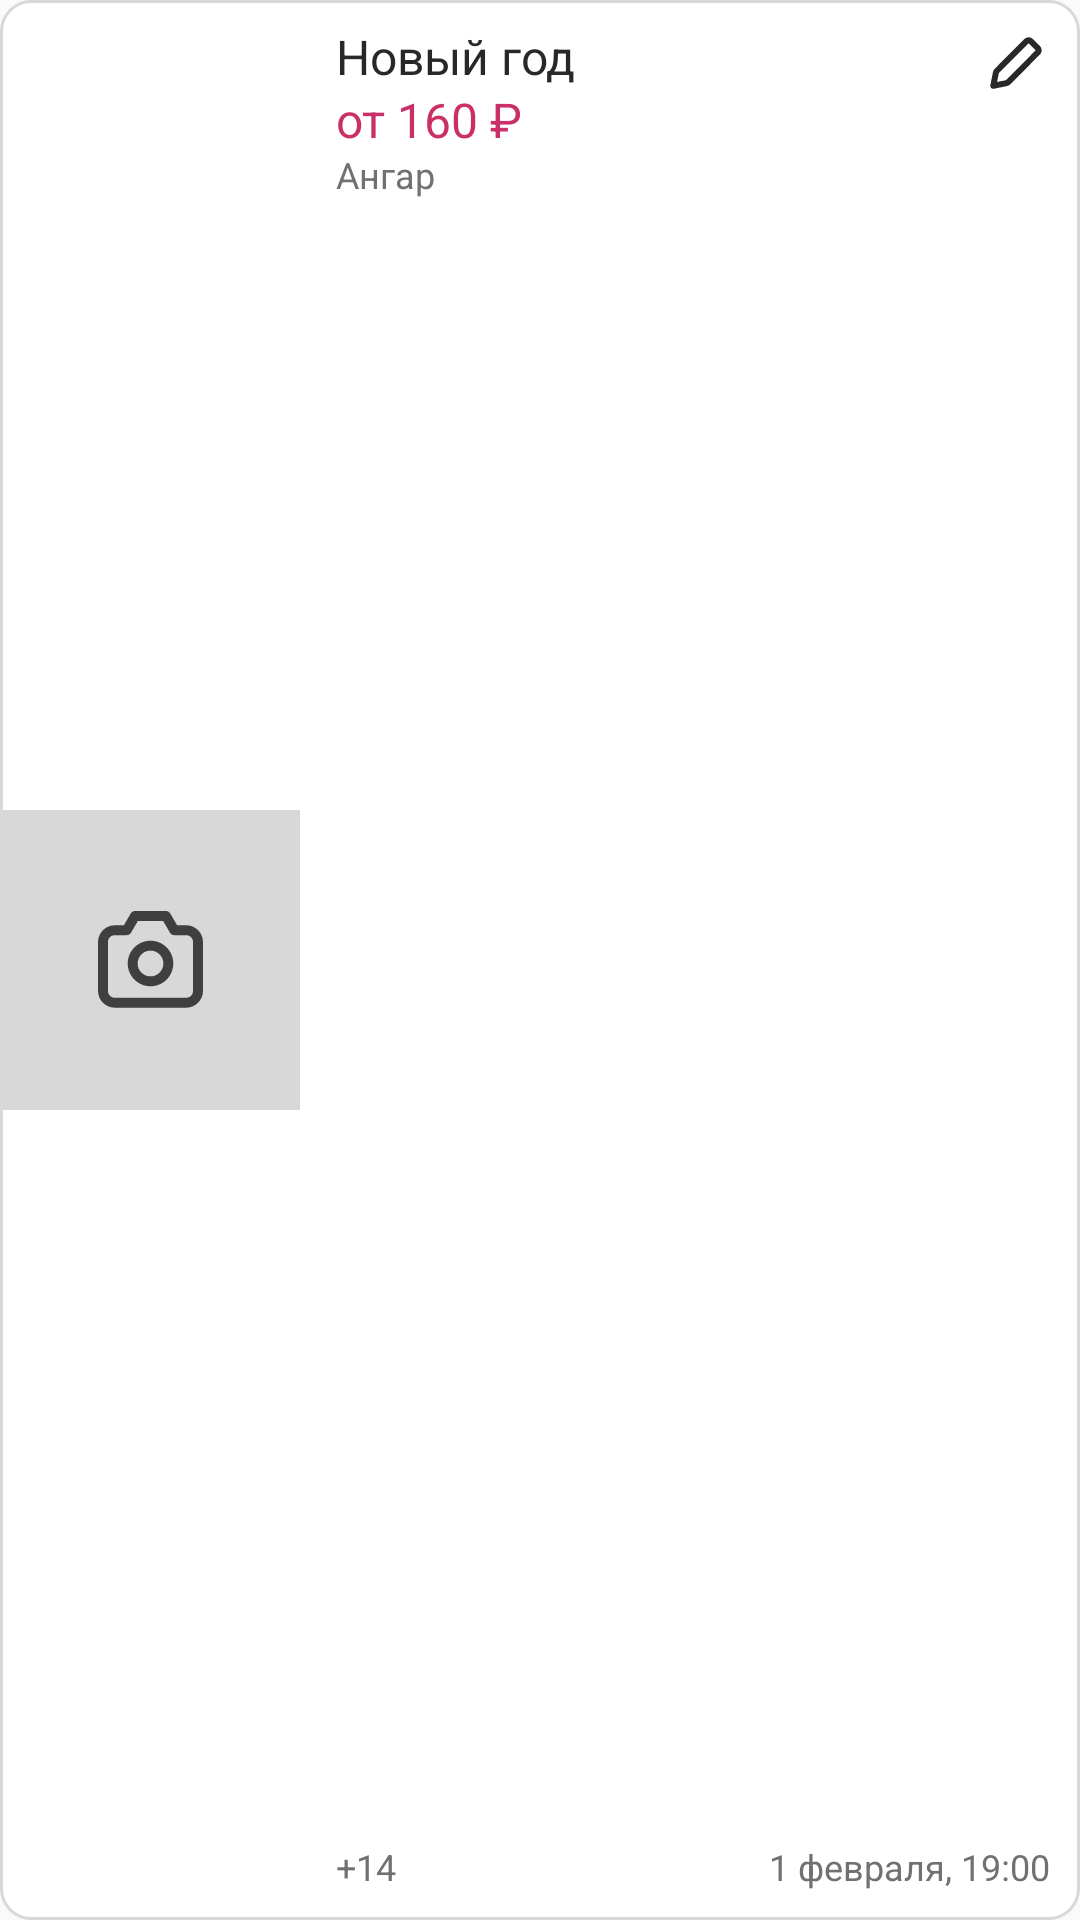

Locate icon controls on the screen. Image size 1080×1920, boxes as (x1, y1, x2, y2).
camera: (0, 810, 300, 1110)
pencil: (990, 37, 1042, 89)
